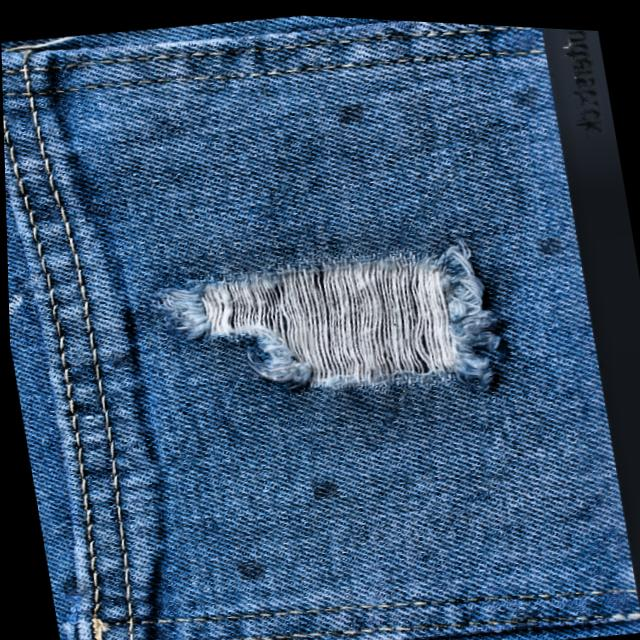Hole: (111, 199, 541, 450)
